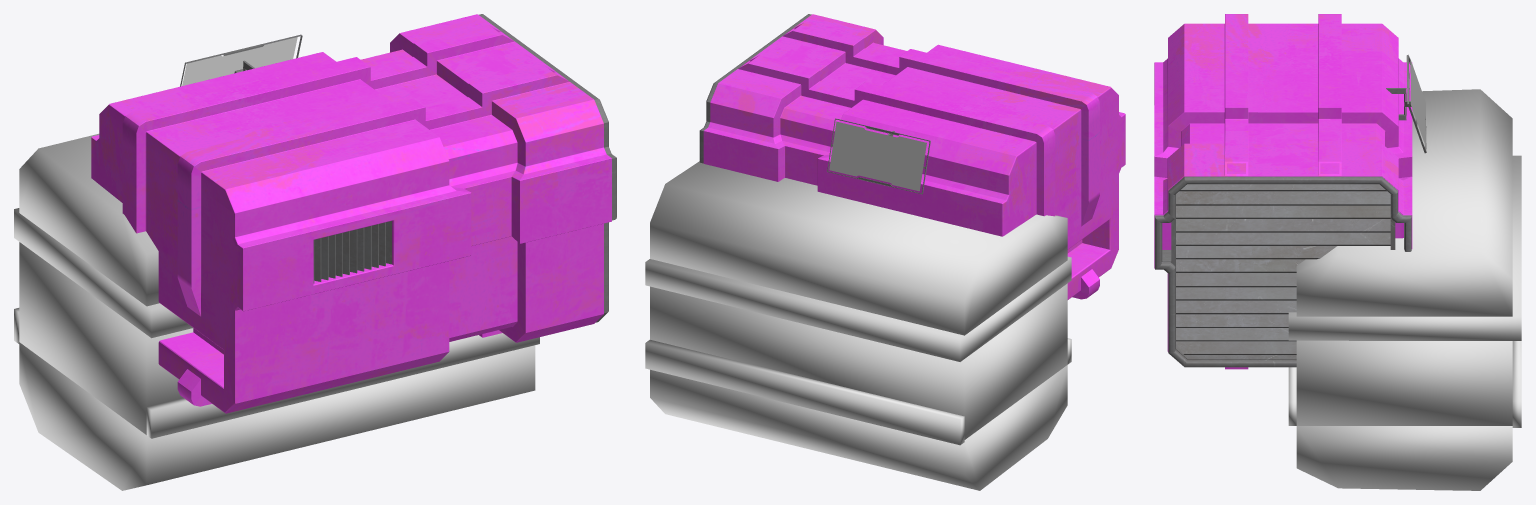
File: SM_ElectricalGenerator.fbx
3 views of the same model, side by side, from view 1: azimuth 30°, elevation 25°; view 2: azimuth 150°, elevation 25°; view 3: azimuth 270°, elevation 25° (orthographic). The views are drawn at different scales.
Visible parts, largest first — view 1: SM_ElectricalGenerator, SM_ElectricalGenerator_ConvexHulls; view 2: SM_ElectricalGenerator_ConvexHulls, SM_ElectricalGenerator; view 3: SM_ElectricalGenerator, SM_ElectricalGenerator_ConvexHulls.
Part boxes in pixels (box(x1,y1,x2,y2)): SM_ElectricalGenerator: box(91, 14, 616, 413); SM_ElectricalGenerator_ConvexHulls: box(14, 133, 539, 490); SM_ElectricalGenerator_ConvexHulls: box(645, 161, 1071, 490); SM_ElectricalGenerator: box(699, 14, 1125, 299); SM_ElectricalGenerator: box(1154, 14, 1426, 369); SM_ElectricalGenerator_ConvexHulls: box(1288, 89, 1521, 490).
Bounding box in the file's own units: 2.06 × 1.91 × 1.99.
